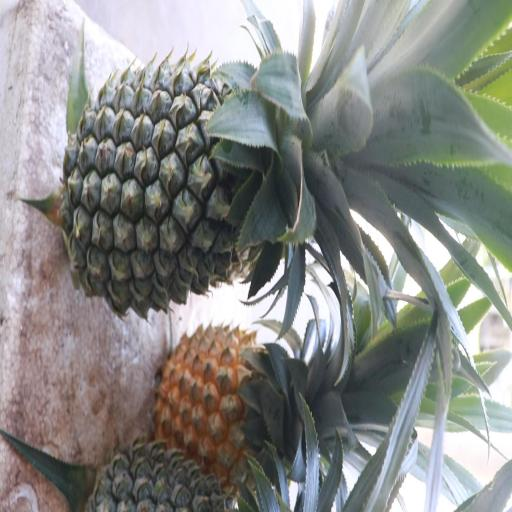Pineapple - v8 v1: (160, 320, 340, 480)
